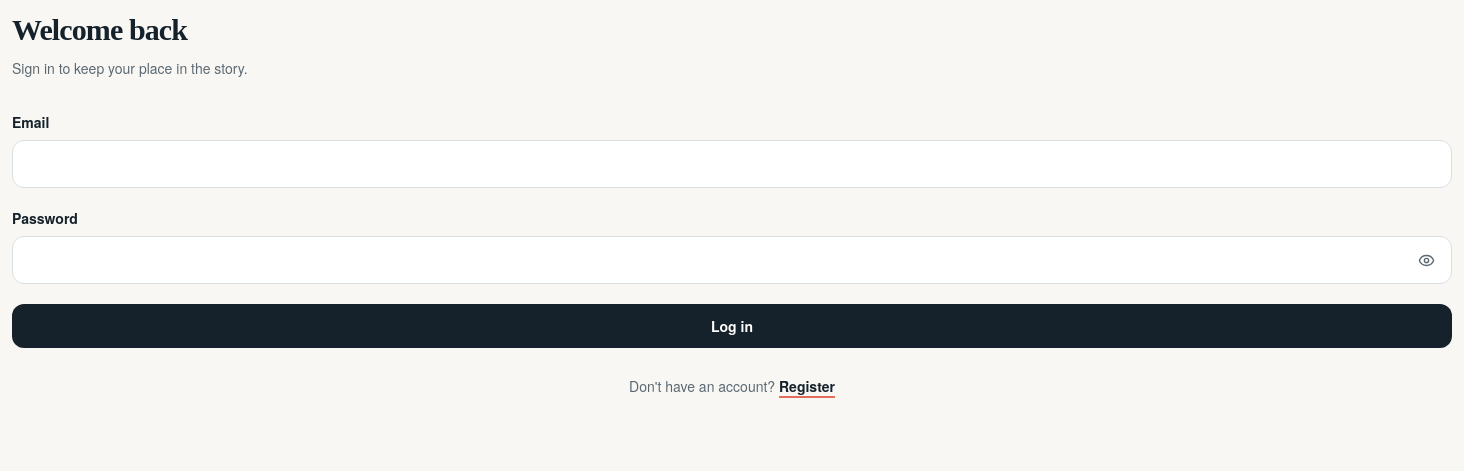
Test: LoginForm › shows client-side validation errors
Click the button "Log in" at [732, 326], box [12,304,1452,348]
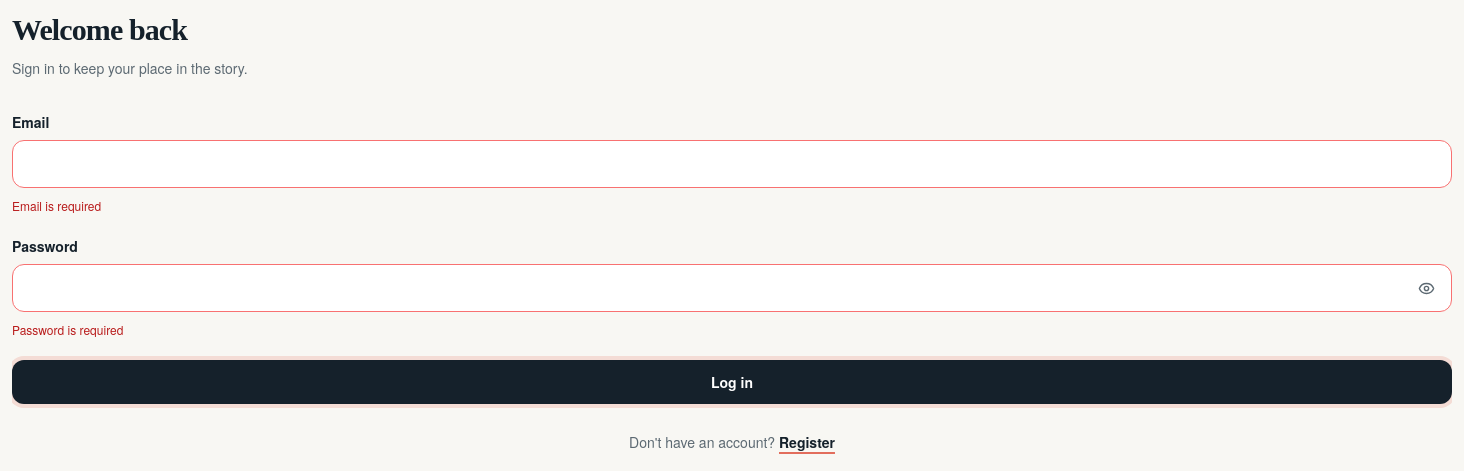
Expected: the text "Email is required" is shown, [12,197,101,214]
Expected: the text "Password is required" is shown, [12,321,123,338]
